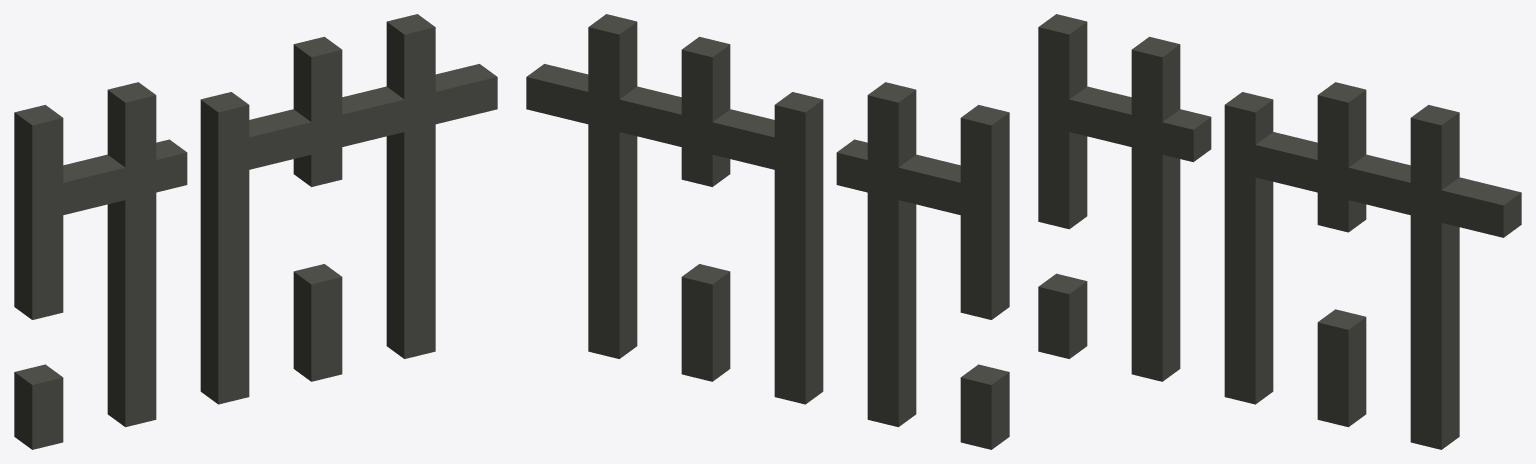
Rendered from church-30-gy_fencemetal2.obj.
The picture shows the model from 3 angles, left to right: view 1: azimuth 30°, elevation 25°; view 2: azimuth 150°, elevation 25°; view 3: azimuth 330°, elevation 25°; orthographic projection.
Visible parts, largest first — view 1: gy_fencemetal2; view 2: gy_fencemetal2; view 3: gy_fencemetal2.
Boxes of the visible parts, left/top/right/bottom form: gy_fencemetal2: left=14, top=14, right=497, bottom=449; gy_fencemetal2: left=526, top=14, right=1009, bottom=449; gy_fencemetal2: left=1038, top=14, right=1521, bottom=449.
Bounding box in the file's own units: 1.5 × 1 × 0.1.
1 material, 1 textured.
